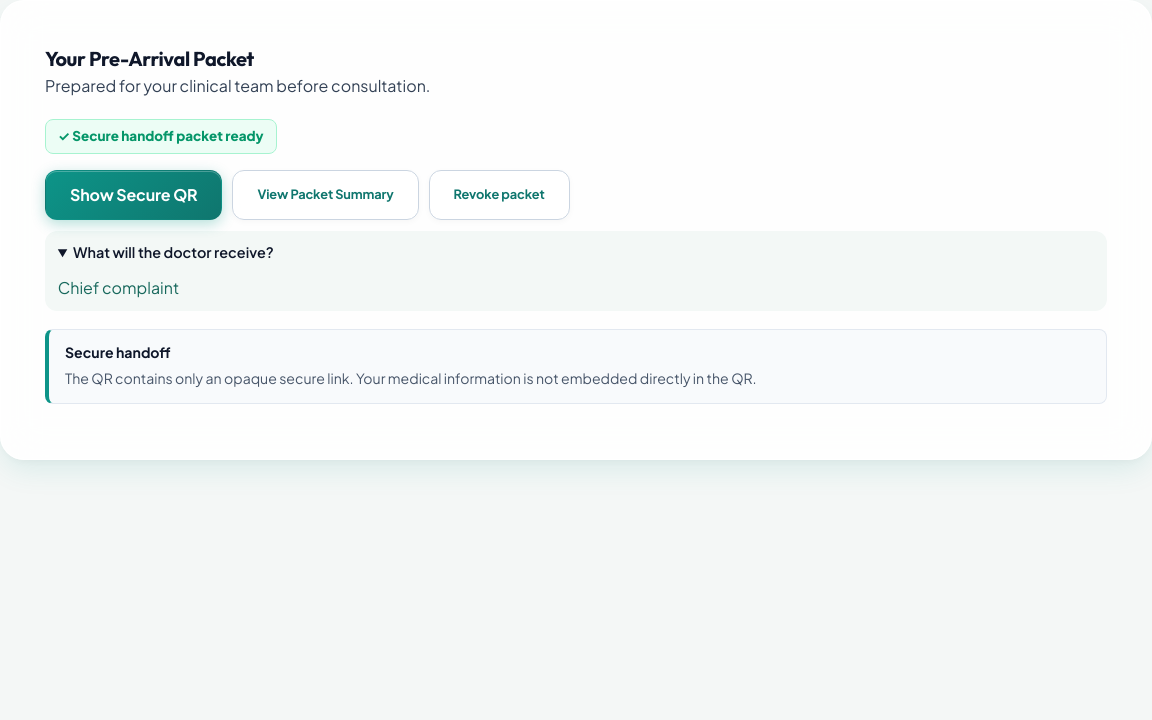
Test case: secure pre-arrival packet › loads the persisted snapshot for patient summary without creating another packet
Click the button "View Packet Summary".
click(326, 195)  # box [232,170,419,220]
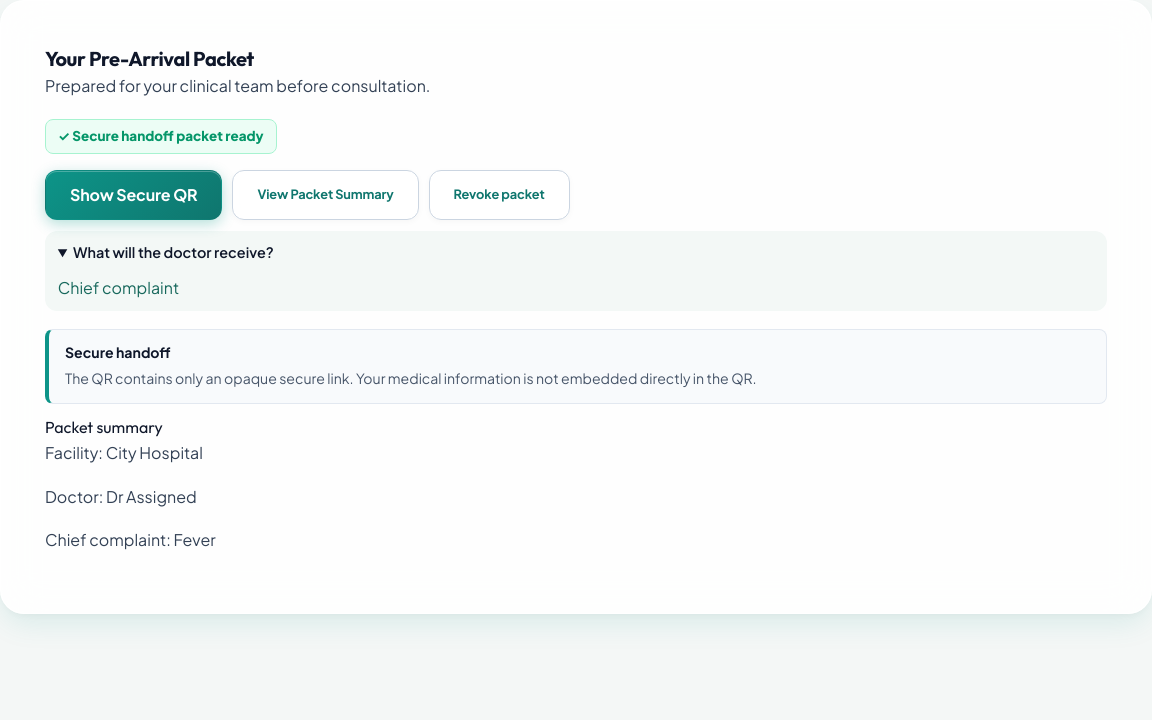
Expected: the text "Facility: City Hospital" is shown, [45,442,203,463]
